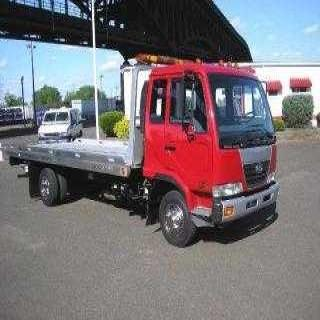Towing_truck: (5, 53, 281, 248)
